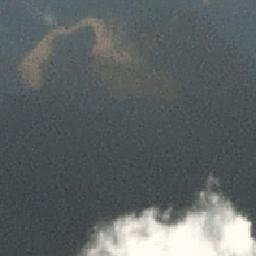cloud: (76, 174, 256, 256)
debris: (87, 39, 140, 82), (19, 28, 52, 89), (54, 14, 105, 36)
